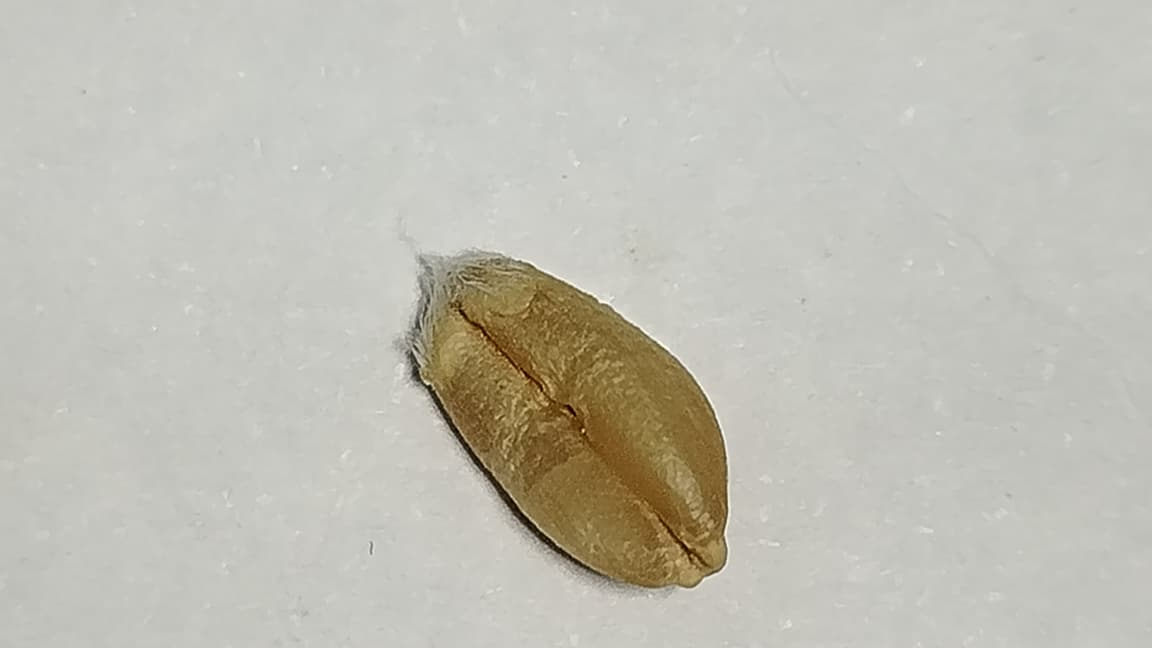healthy: (412, 251, 726, 586)
